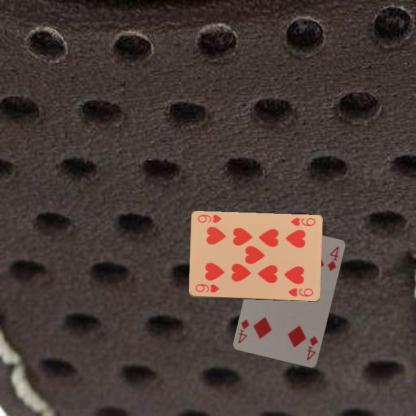4d: (304, 333, 319, 362)
9h: (288, 215, 316, 228), (193, 281, 220, 294)
